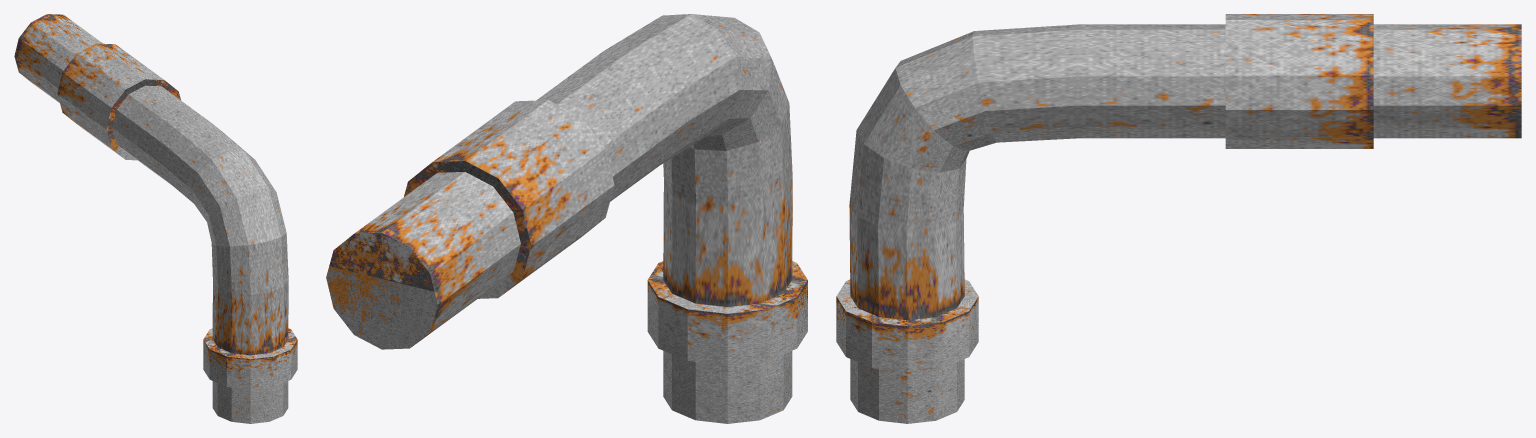
Rendered from pipe_test2.fbx.
The picture shows the model from 3 angles, left to right: view 1: azimuth 30°, elevation 25°; view 2: azimuth 150°, elevation 25°; view 3: azimuth 270°, elevation 25°; orthographic projection. The views are drawn at different scales.
Parts seen in each view (by area): view 1: pipe; view 2: pipe; view 3: pipe.
Part boxes in pixels (<box>): pipe: <box>14,14,297,423</box>; pipe: <box>326,14,807,423</box>; pipe: <box>836,14,1521,423</box>.
Size of the model in its own units: 249 by 733 by 1198.
1 material, 1 textured.
